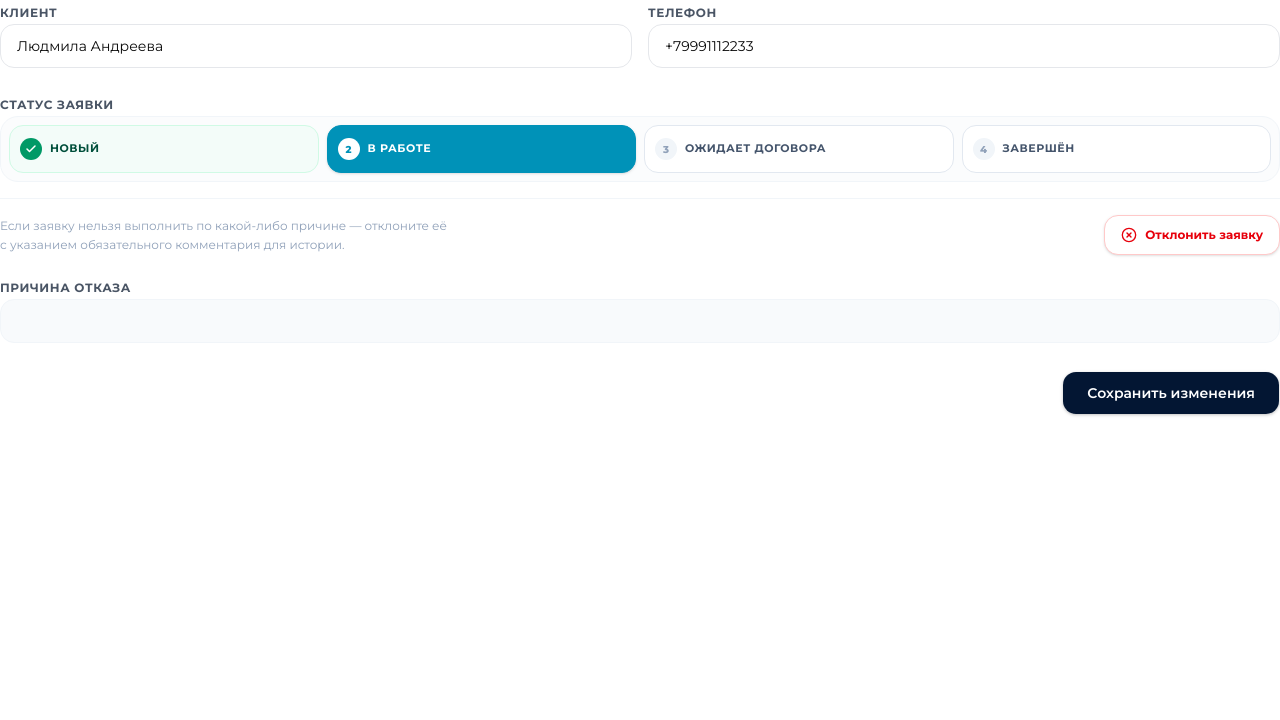
OrderManageForm › требует причину при подтверждении отказа
The image size is (1280, 720).
Click the button "Отклонить заявку": (1192, 235) [1104,215,1279,255]
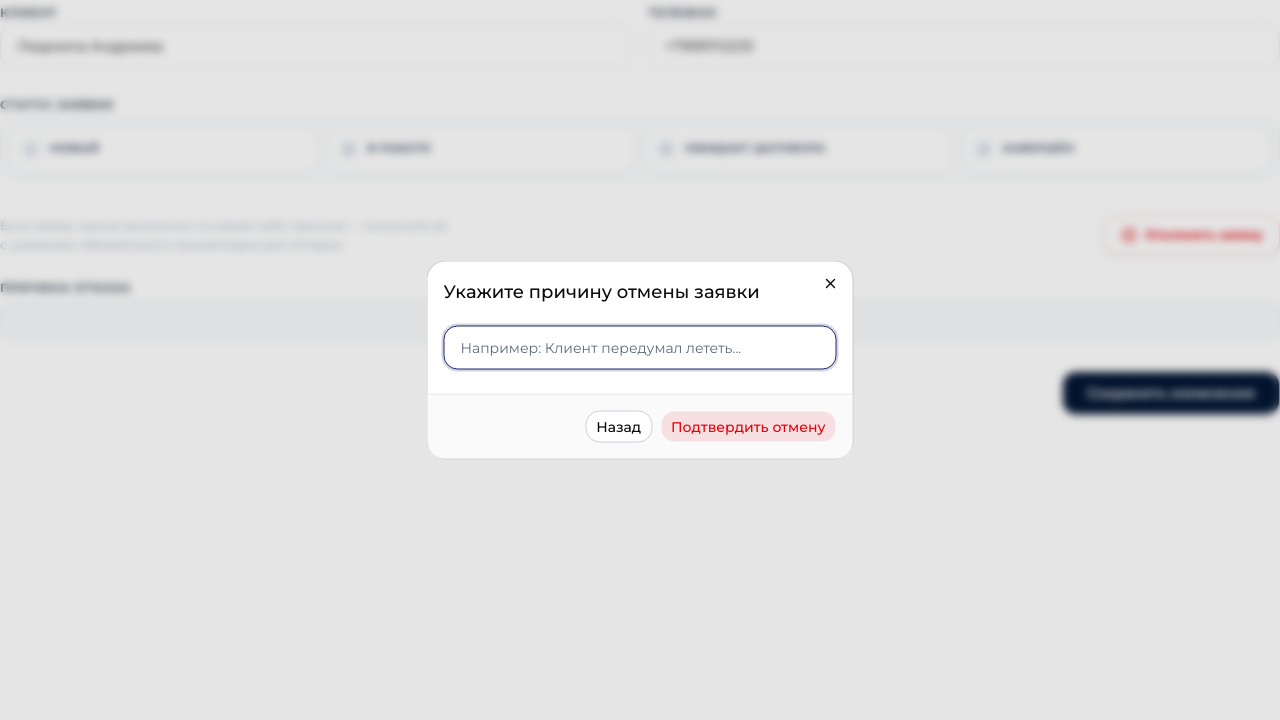
Check: the heading "Укажите причину отмены заявки" is shown, box [444,280,760,302]
Click the button "Подтвердить отмену": (748, 426) [660,410,836,442]
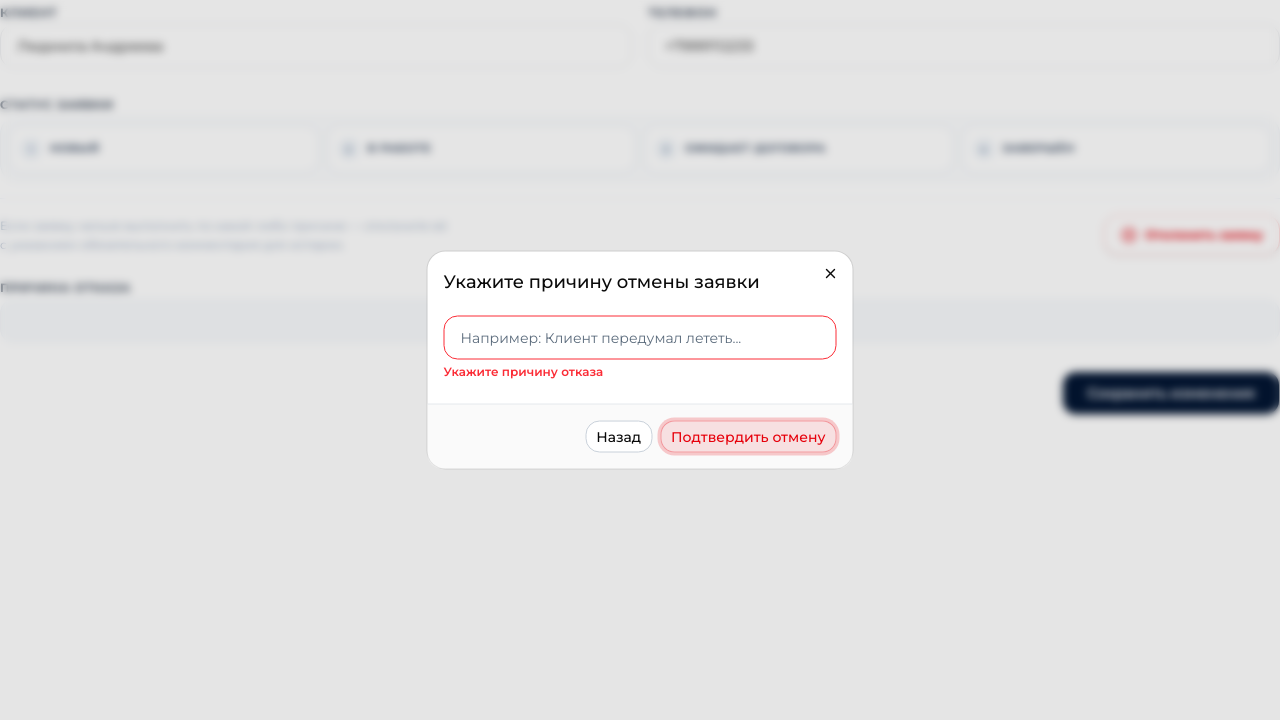
Check: the text "Укажите причину отказа" is shown, box [444,364,603,378]
